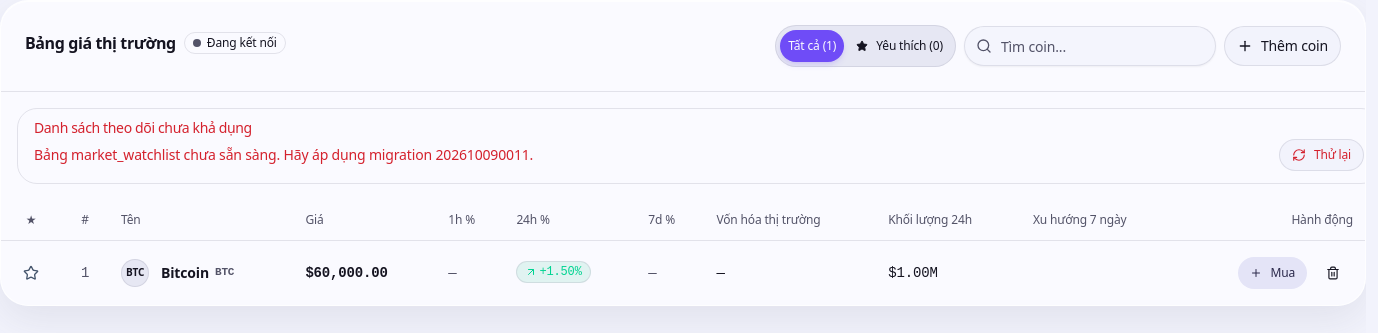
Scenario: MarketWatchlist persistence status › explains a watchlist API failure and retries the persisted list
The width and height of the screenshot is (1378, 333).
Check: the message shows "migration 202610090011", box x1=34 y1=145 x2=533 y2=164
Step 1. Click the button "Thử lại" → (1321, 155), box x1=1279 y1=139 x2=1364 y2=171
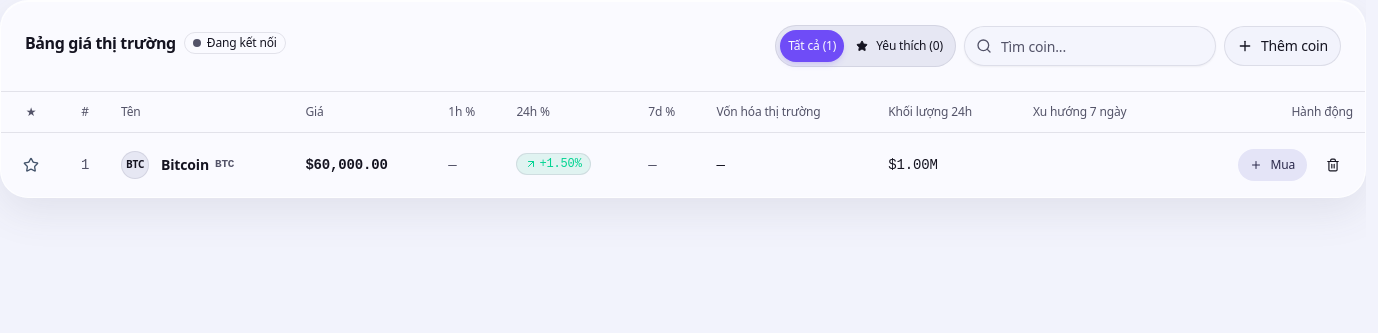
Check: the message is gone
